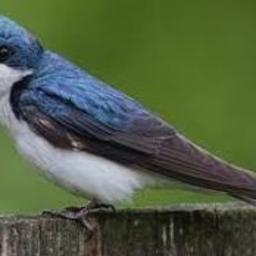Swallow: (0, 12, 256, 222)
